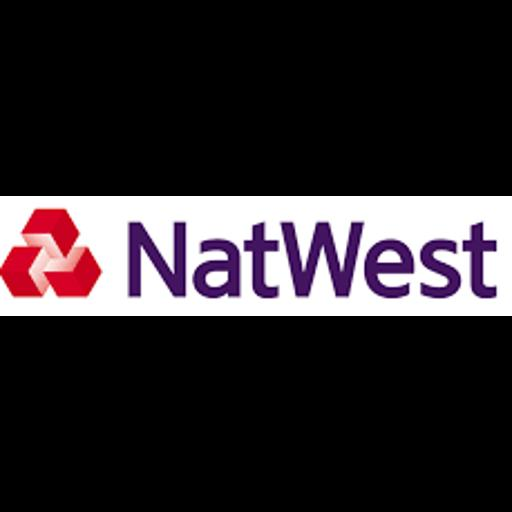NatWest Personal Banking: (0, 196, 512, 316)
